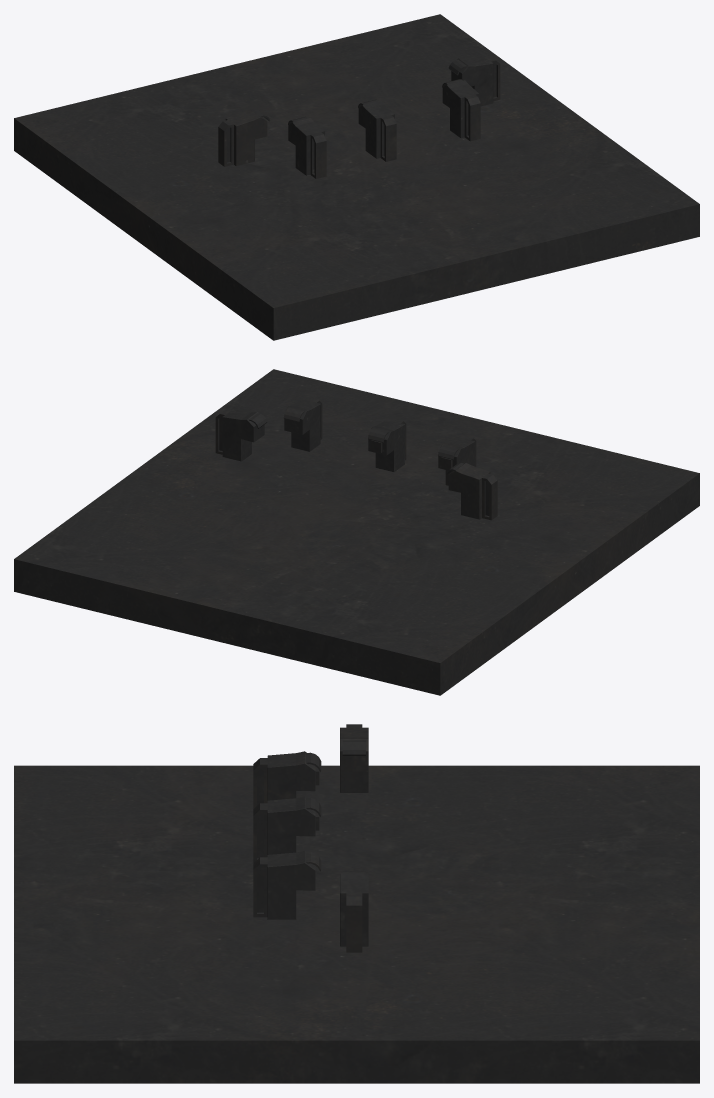
The model's file is pied.fbx.
3 views of the same model, one above another, from view 1: azimuth 30°, elevation 25°; view 2: azimuth 150°, elevation 25°; view 3: azimuth 270°, elevation 25° (orthographic). The views are drawn at different scales.
Visible parts, largest first — view 1: Pied; view 2: Pied; view 3: Pied.
Boxes of the visible parts, x1,y1,x2,y2 form: Pied: (14,14,699,340); Pied: (14,369,699,695); Pied: (14,724,699,1083).
Size of the model in its own units: 1772 by 423 by 1869.
